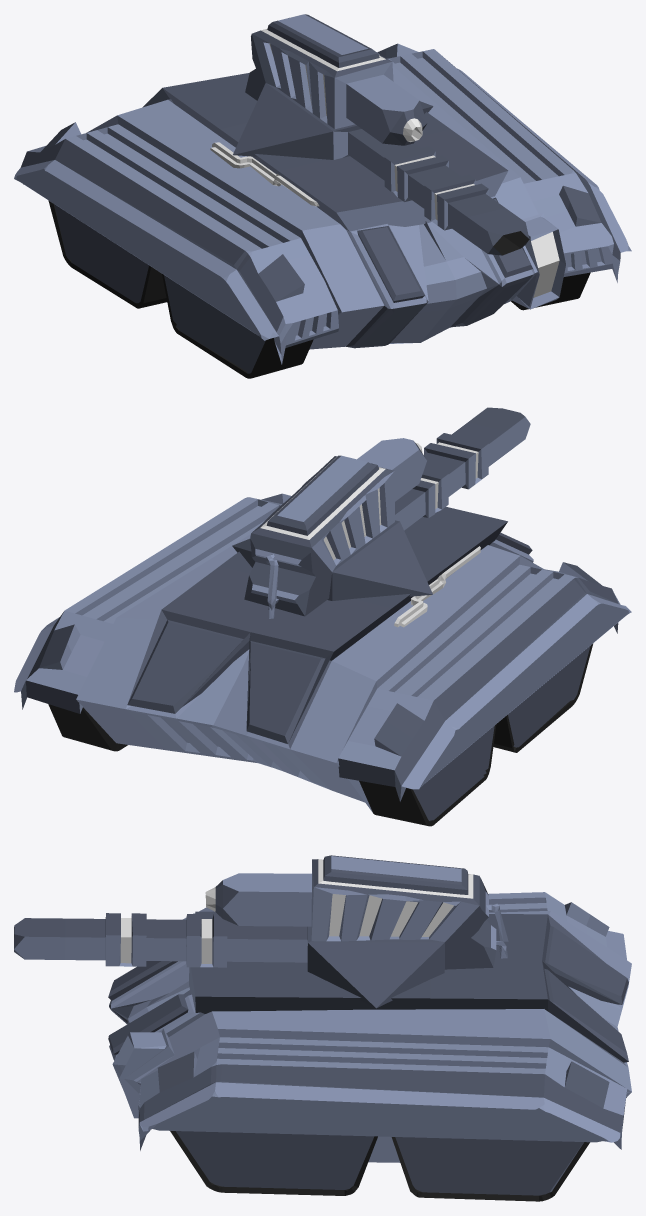
File: HeavyTank.fbx
3 renders of one model, top to bottom at view 1: azimuth 30°, elevation 25°; view 2: azimuth 150°, elevation 25°; view 3: azimuth 270°, elevation 25°, orthographic.
Parts seen in each view (by area): view 1: Tank, Turret; view 2: Tank, Turret; view 3: Tank, Turret.
Part boxes in pixels (x1,y1,x2,y2): Tank: (14,43,631,378); Turret: (233,14,529,255); Tank: (14,493,631,826); Turret: (232,407,530,618); Tank: (108,892,631,1201); Turret: (14,855,508,1008).
Size of the model in its own units: 1256 by 713 by 1601.
